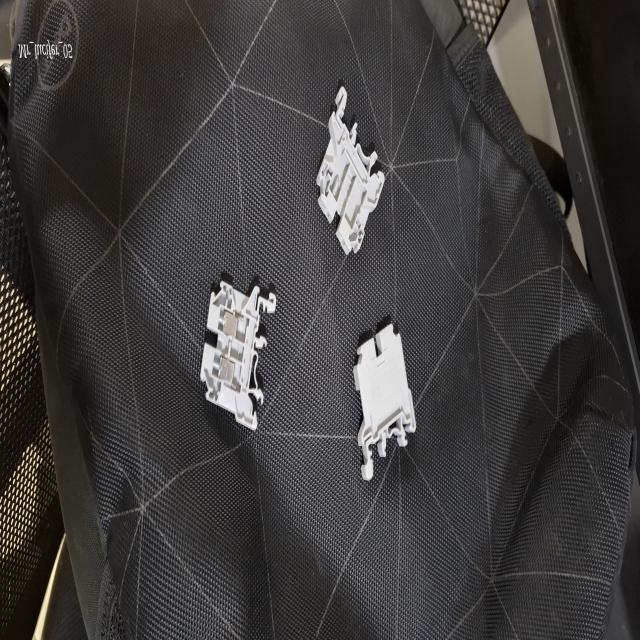Inverted: (354, 312, 417, 482)
Pass: (200, 272, 278, 433)
Reject: (316, 80, 386, 258)
